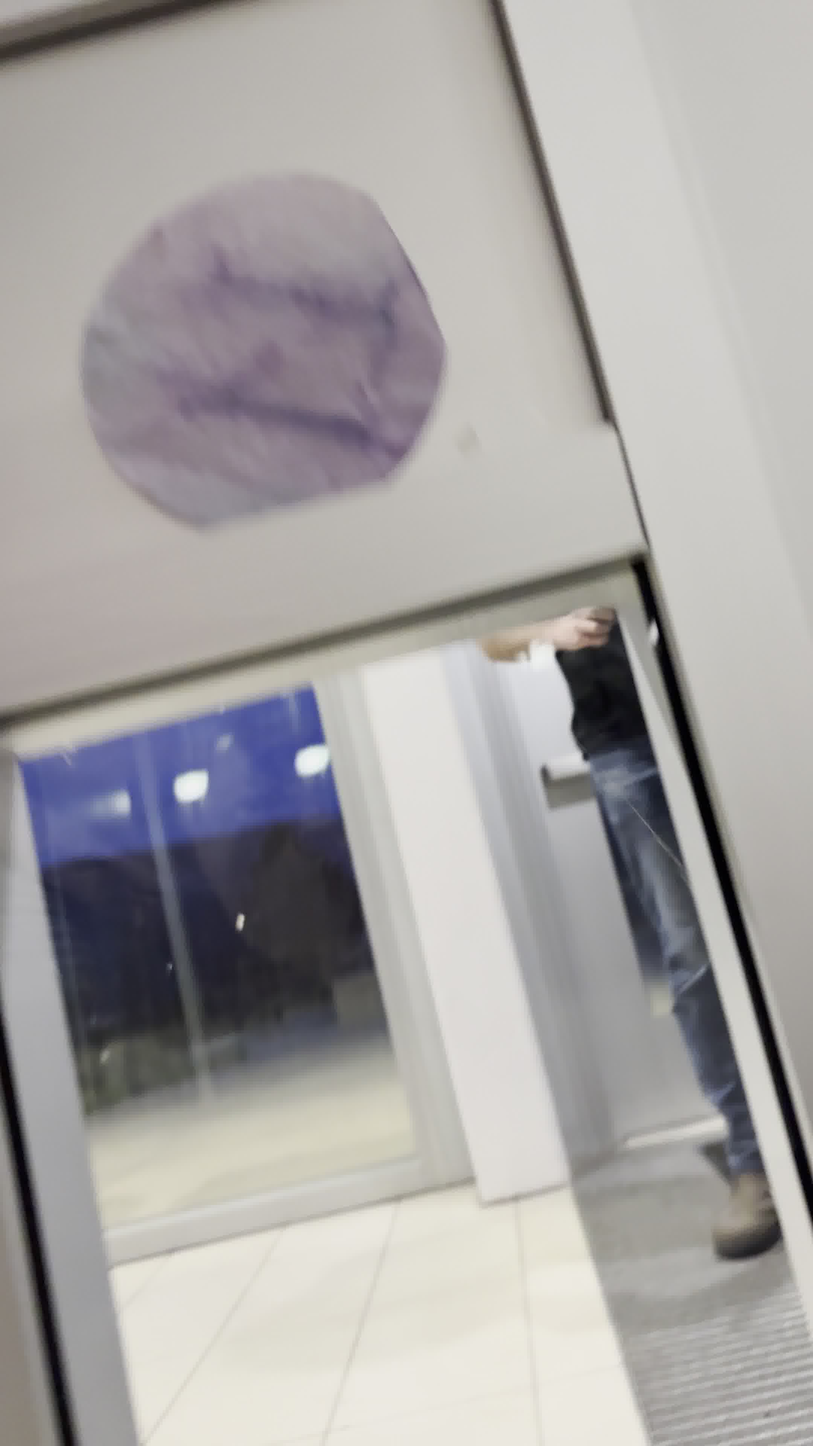Target: (65, 150, 466, 545)
